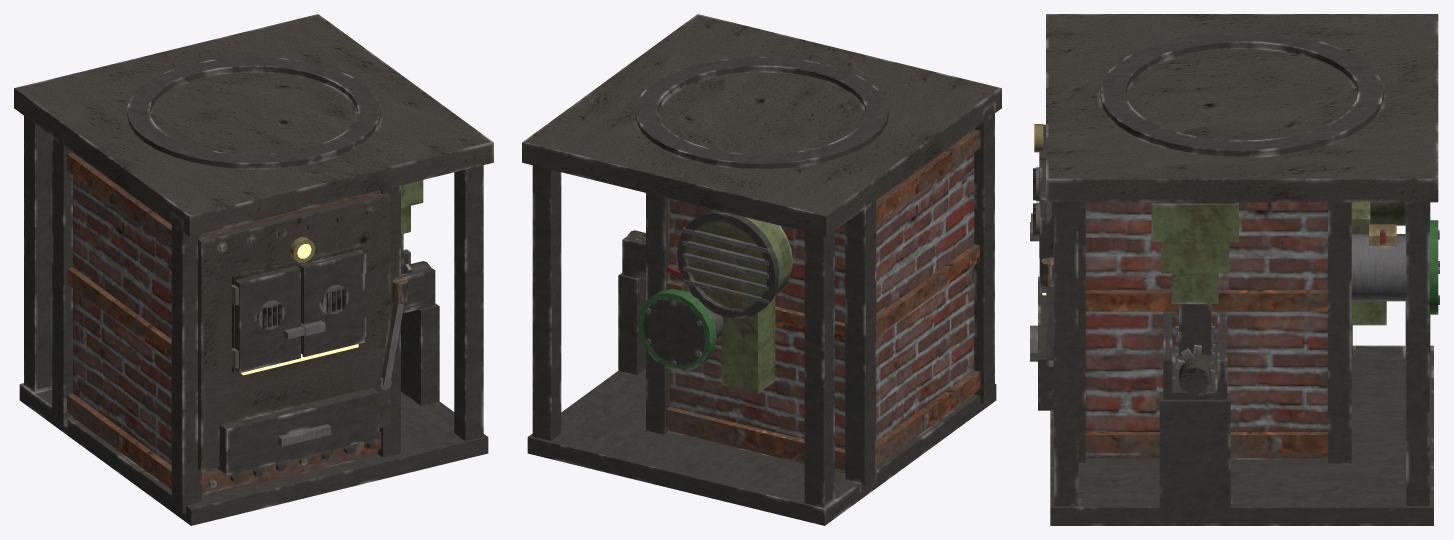
The model's file is feBoilerFirebox_HD.fbx.
The picture shows the model from 3 angles, left to right: view 1: azimuth 30°, elevation 25°; view 2: azimuth 150°, elevation 25°; view 3: azimuth 270°, elevation 25°; orthographic projection. The views are drawn at different scales.
Parts seen in each view (by area): view 1: feBoilerFirebox_Base; view 2: feBoilerFirebox_Base, feBoilerFirebox_Blower; view 3: feBoilerFirebox_Base, feBoilerFirebox_Blower, FeWorkSpin_x0.6_Stoker.
Boxes of the visible parts, bbox=[...] form: feBoilerFirebox_Base: bbox=[14, 14, 493, 525]; feBoilerFirebox_Base: bbox=[522, 14, 1001, 525]; feBoilerFirebox_Blower: bbox=[637, 209, 792, 393]; feBoilerFirebox_Base: bbox=[1030, 14, 1438, 525]; feBoilerFirebox_Blower: bbox=[1351, 202, 1439, 325]; FeWorkSpin_x0.6_Stoker: bbox=[1175, 323, 1215, 379].
Bounding box in the file's own units: 1 × 0.998 × 1.05.
2 materials, 1 textured.
